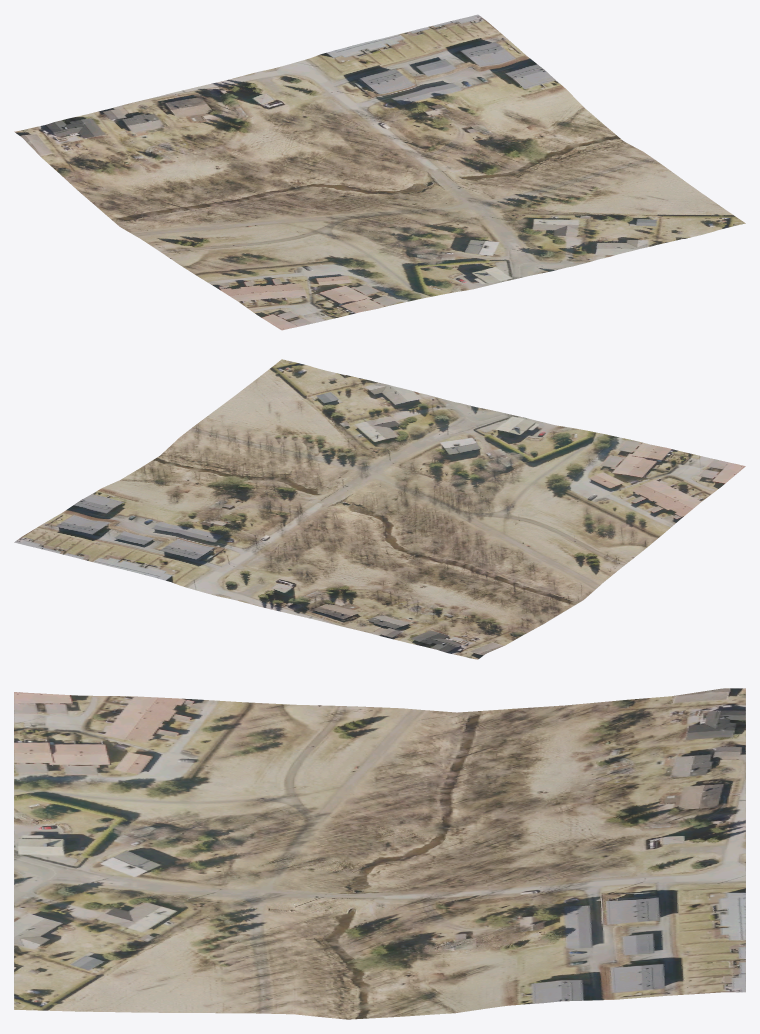
The model's file is CM_Terrain_24490254_6818360.fbx.
3 views of the same model, one above another, from view 1: azimuth 30°, elevation 25°; view 2: azimuth 150°, elevation 25°; view 3: azimuth 270°, elevation 25° (orthographic). The views are drawn at different scales.
Visible parts, largest first — view 1: CM_Terrain_24490254_6818360_LOD0; view 2: CM_Terrain_24490254_6818360_LOD0; view 3: CM_Terrain_24490254_6818360_LOD0.
Boxes of the visible parts, x1=… form: CM_Terrain_24490254_6818360_LOD0: x1=14, y1=14, x2=745, y2=330; CM_Terrain_24490254_6818360_LOD0: x1=14, y1=359, x2=745, y2=659; CM_Terrain_24490254_6818360_LOD0: x1=14, y1=688, x2=745, y2=1019.
Size of what is drawn, in the model's own units: 205 by 9.72 by 205.
